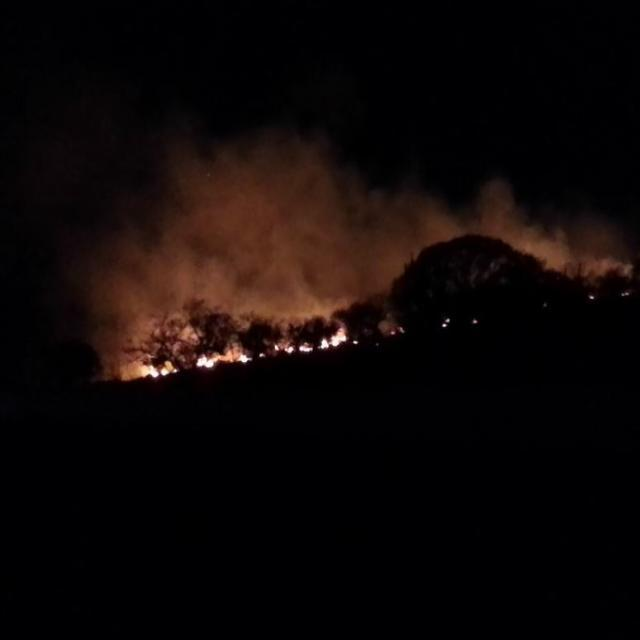Fire: (132, 311, 358, 380)
